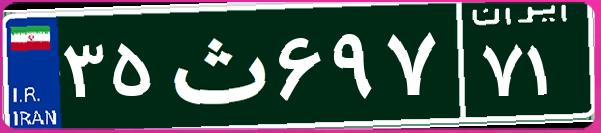1: (525, 38, 570, 115)
3: (57, 26, 110, 107)
5: (110, 28, 158, 105)
6: (273, 28, 330, 110)
7: (385, 28, 445, 110), (475, 38, 525, 113)
9: (330, 28, 385, 110)
ث: (158, 15, 273, 115)
